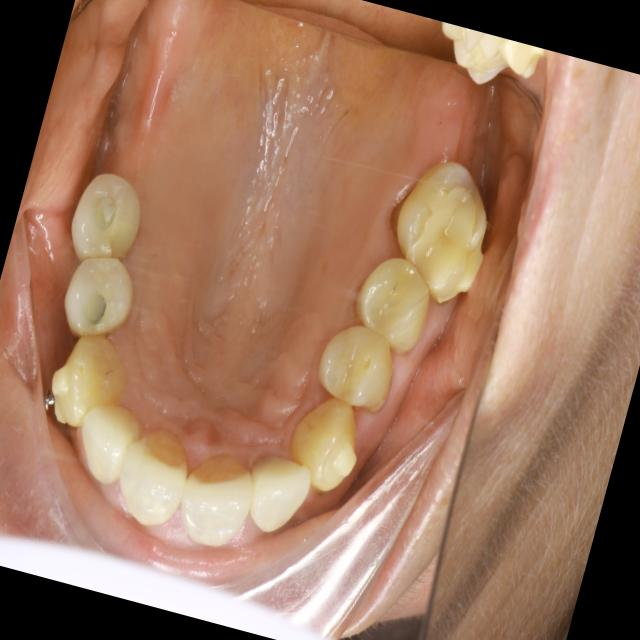tooth: (372, 131, 518, 318), (100, 402, 215, 545), (30, 318, 143, 455), (42, 241, 161, 359), (334, 244, 448, 364), (165, 437, 276, 558), (56, 162, 165, 285), (305, 312, 413, 431), (275, 387, 377, 508), (62, 385, 158, 506), (231, 440, 328, 554)
